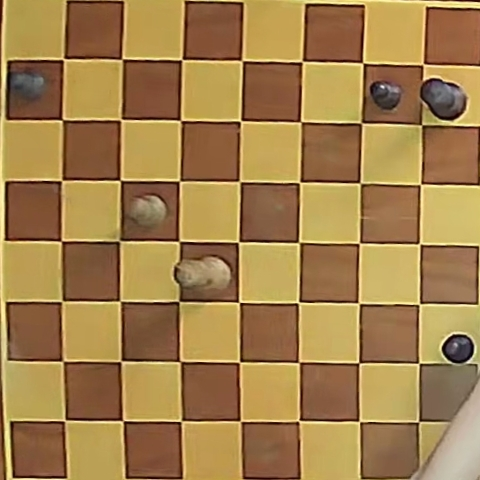black-king: (419, 78, 466, 120)
black-pawn: (10, 69, 47, 100), (441, 334, 474, 364), (370, 80, 402, 110)
white-king: (175, 256, 232, 290)
white-pawn: (129, 194, 167, 227)
